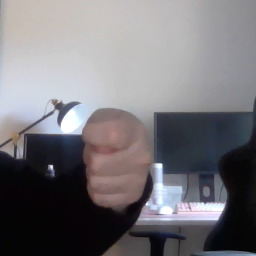T: (79, 105, 152, 208)
